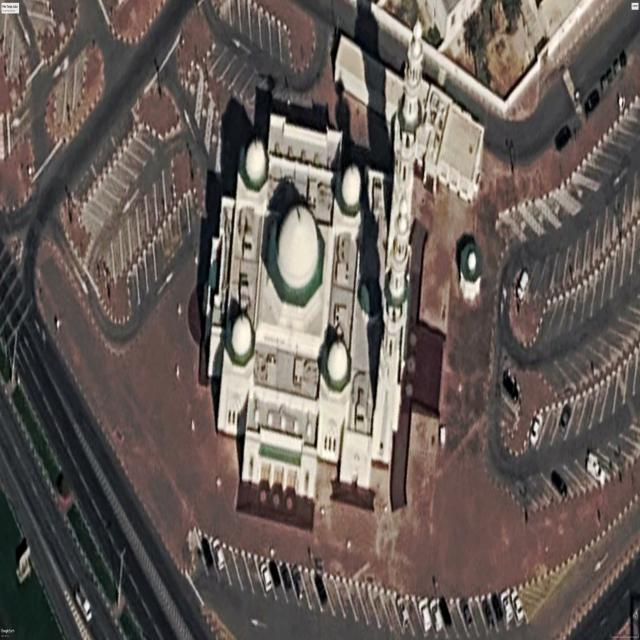Home: (205, 22, 453, 507)
